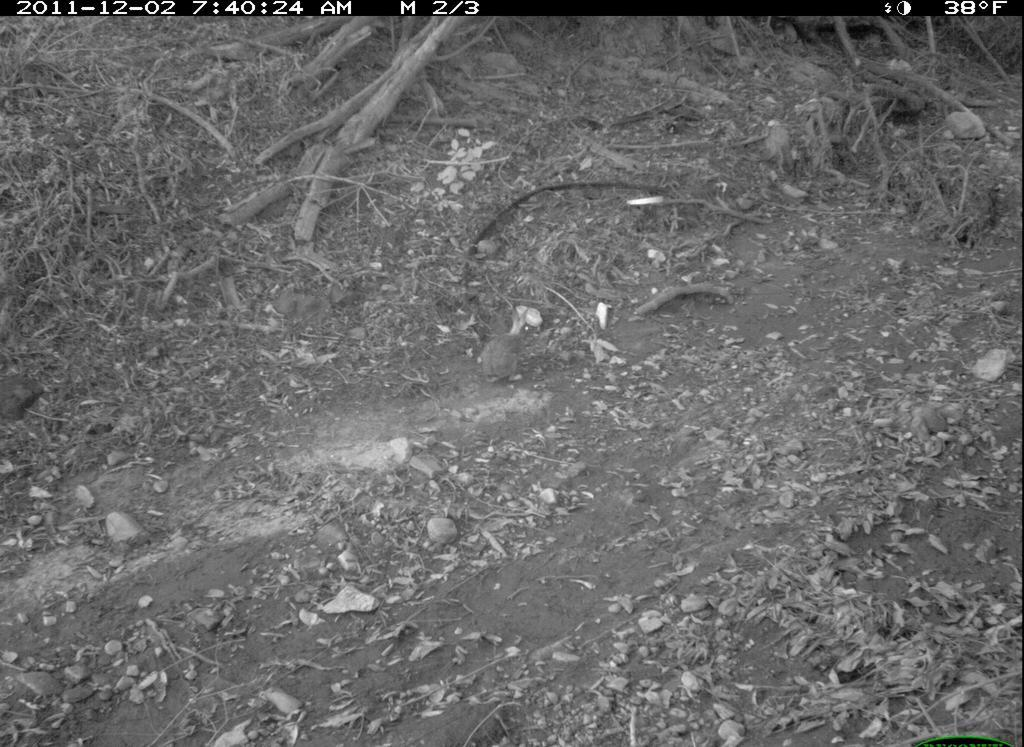rabbit: (477, 299, 539, 396)
